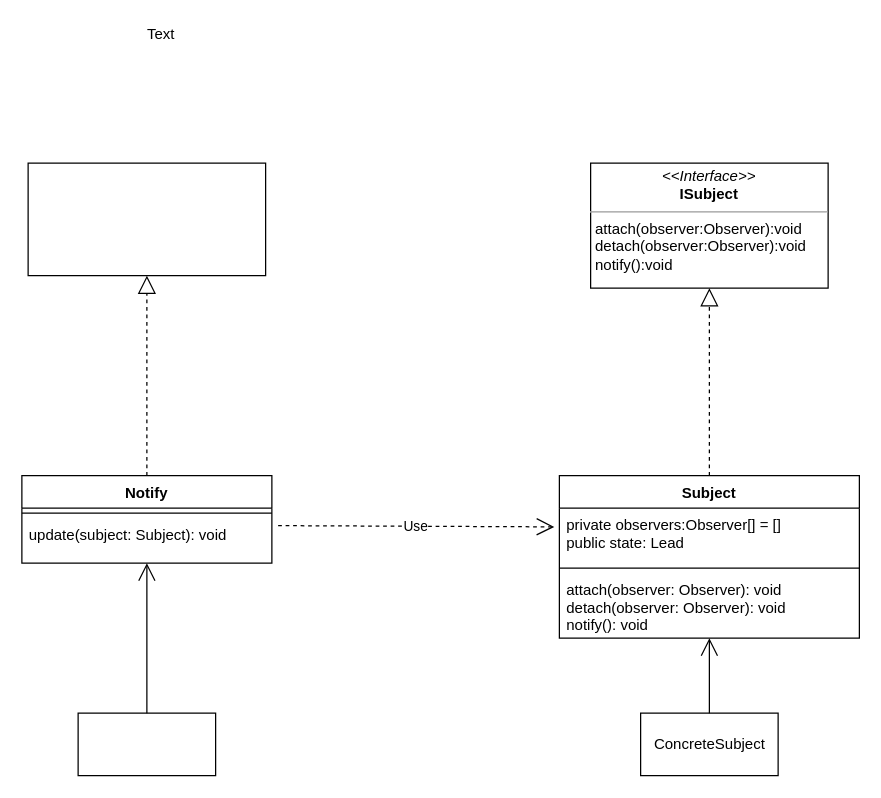
This 881x798 diagram has some shape labels left out. The shapes that lost their labels are listed below. From the top down, each one's centre as x and y in pixels, then its label:
At pixel 146 219: "<<Interface>> Observer + update(subject:Subject):void".
At pixel 146 744: "ConcreteObserver".
